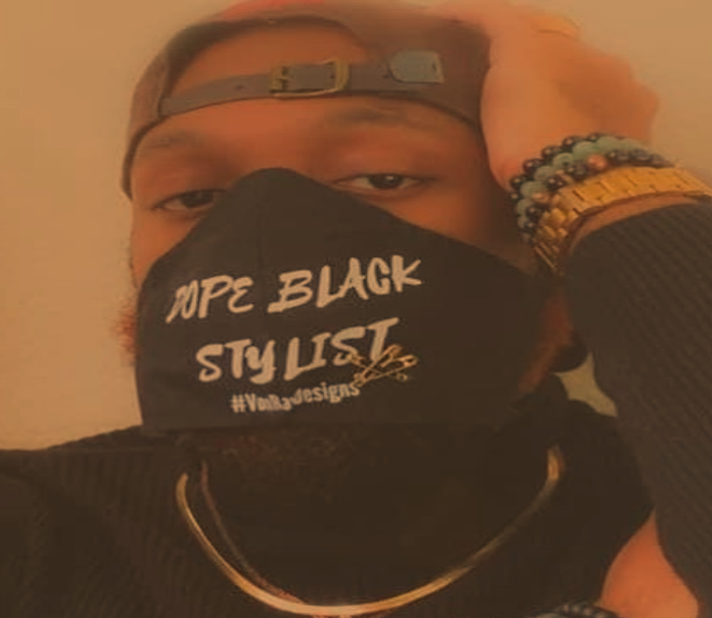mask_weared_incorrect: (96, 0, 603, 504)
